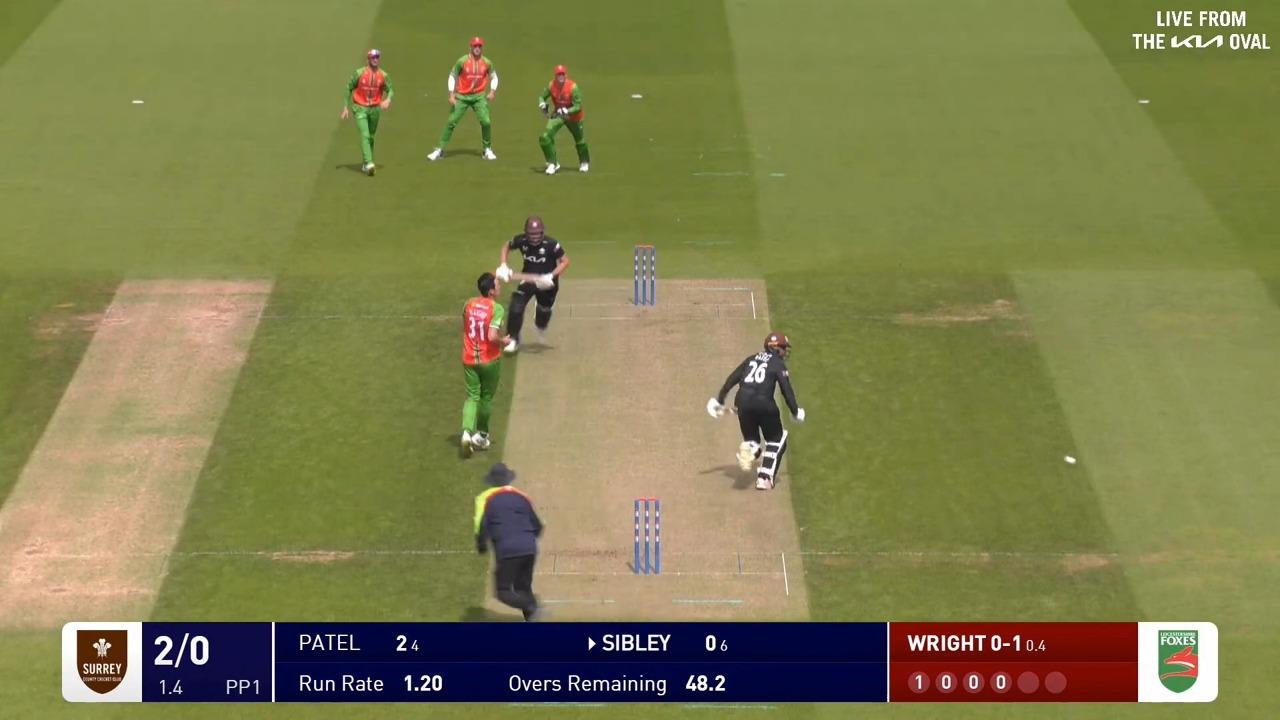sports ball: (1065, 456, 1076, 464)
